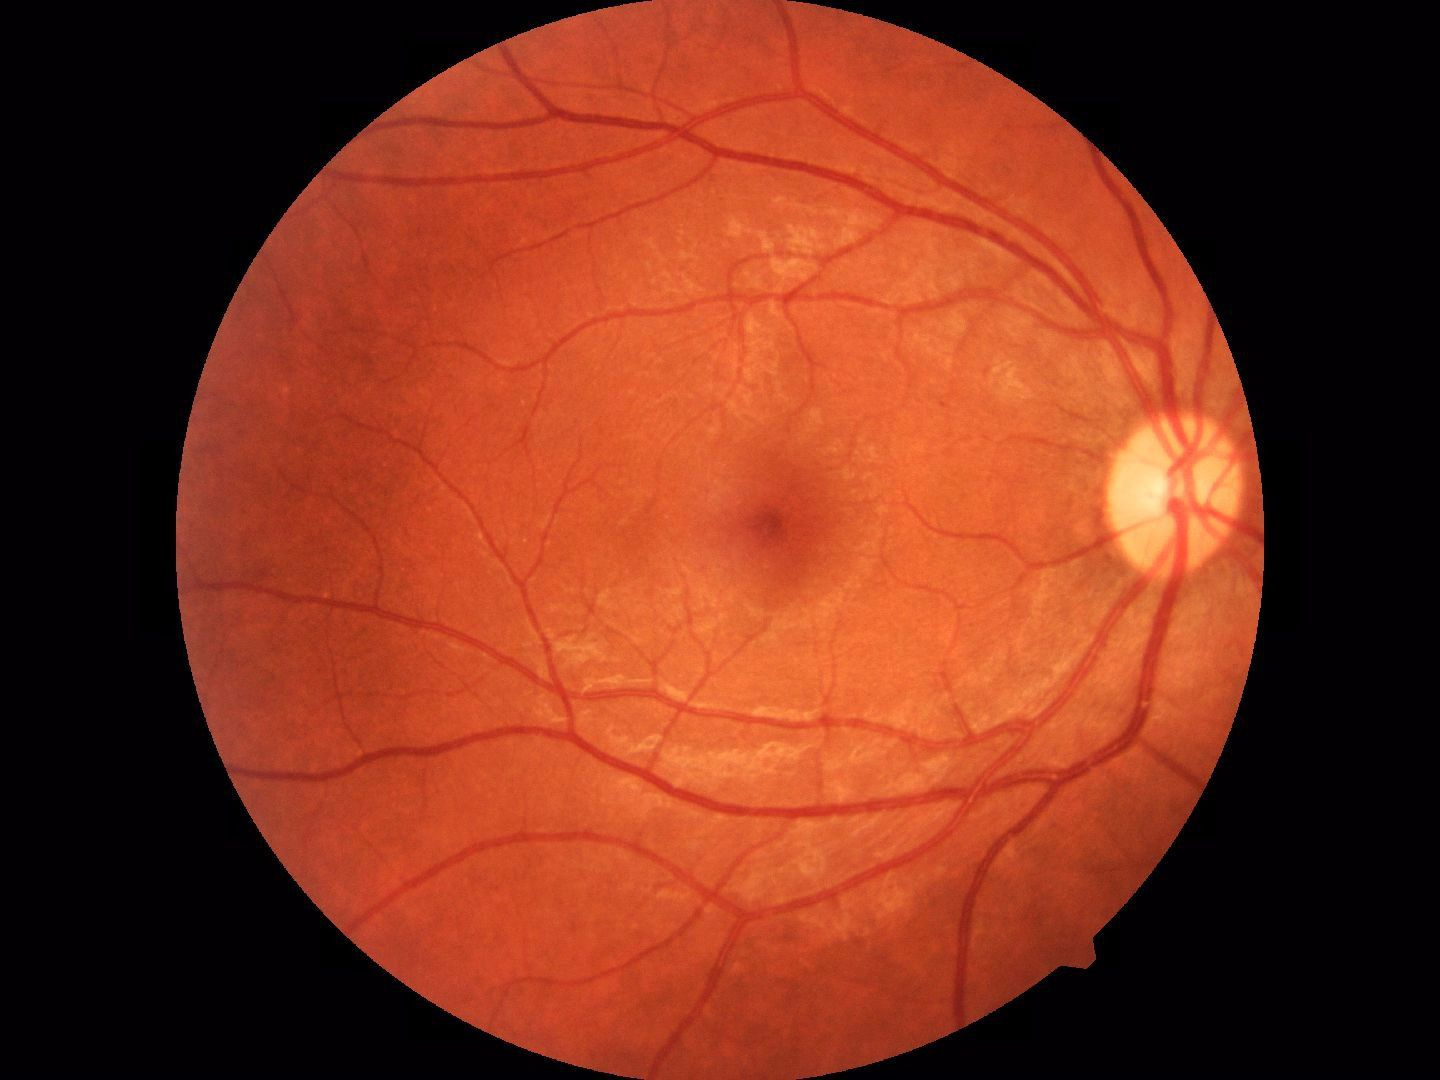Hemorrhages: (719, 452, 849, 598)
Optic-Disc: (1110, 389, 1250, 598)
Venules: (466, 715, 1160, 822), (571, 81, 1014, 248)
